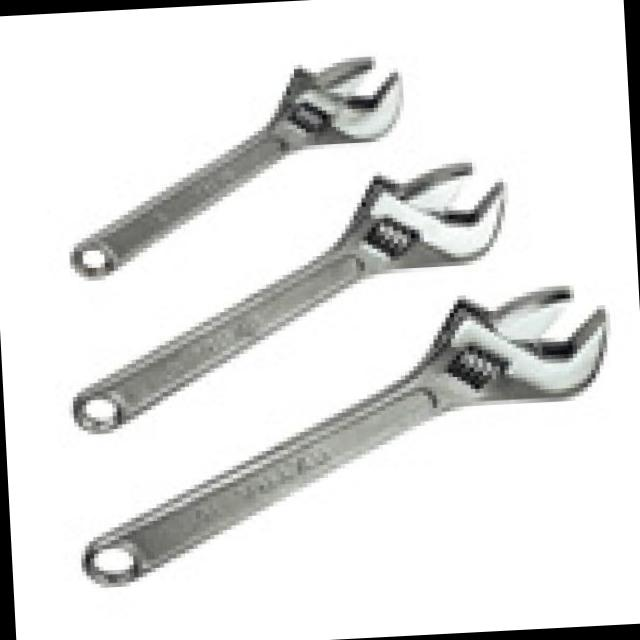wrench: (82, 291, 607, 587), (73, 164, 505, 434), (71, 58, 401, 281)
